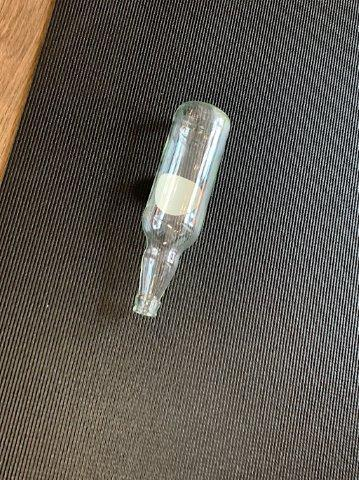botolkaca: (132, 101, 231, 317)
